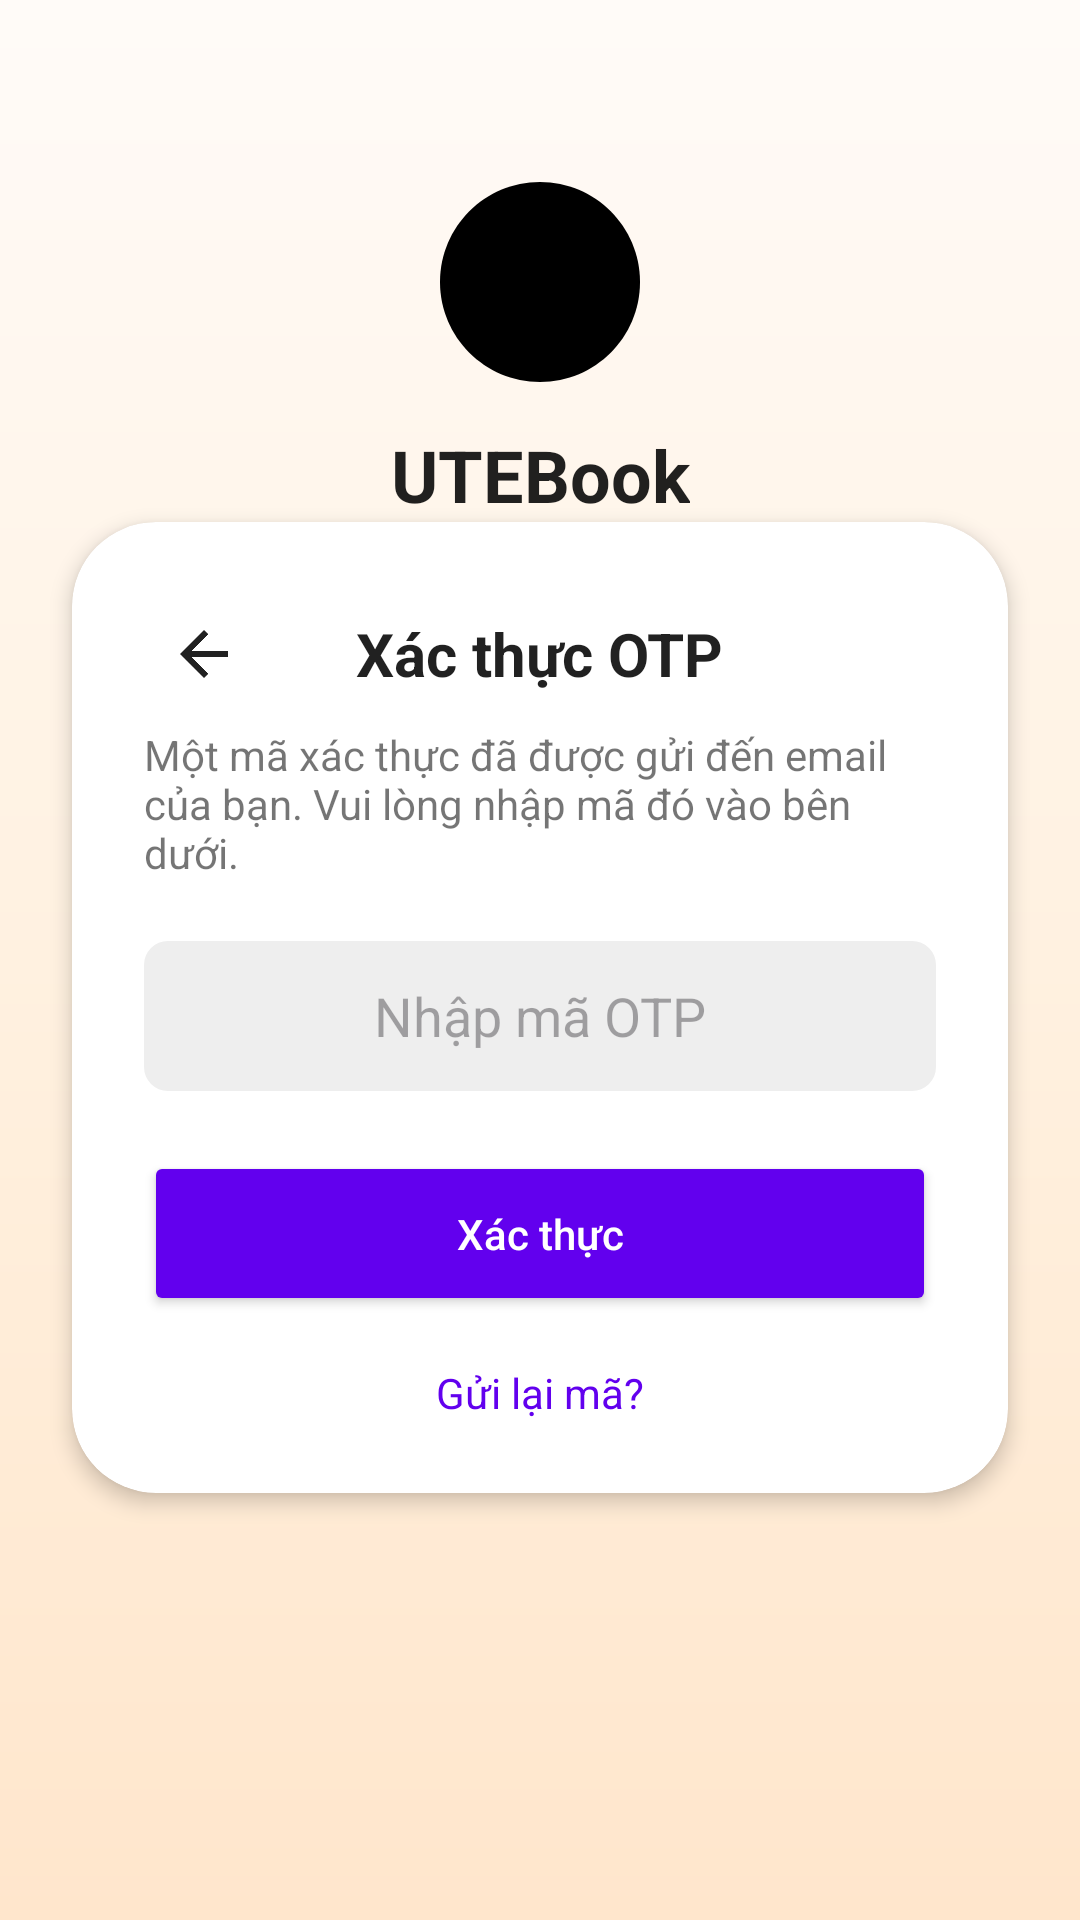

Icon click points for this 1080x1920 phone screenshot, format point (x, y):
arrow back: point (204, 654)
